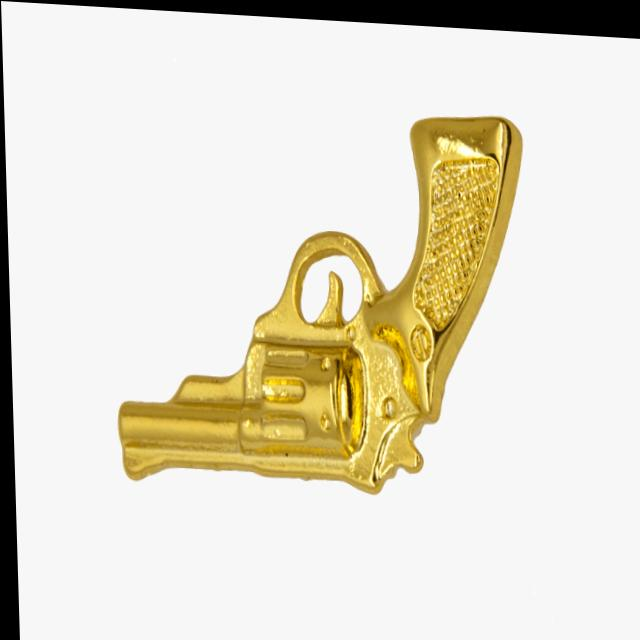handgun: (109, 92, 530, 501)
